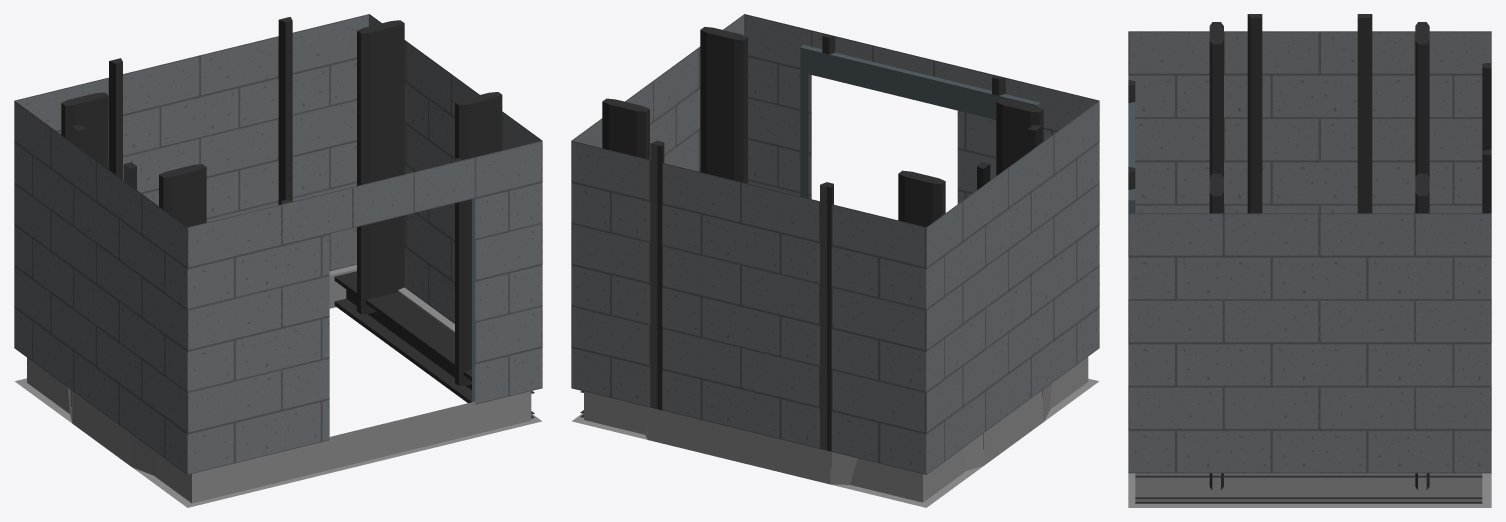
The model's file is SW_ENV_Elevator_Shaft_DoorLevel_FF.fbx.
The picture shows the model from 3 angles, left to right: view 1: azimuth 30°, elevation 25°; view 2: azimuth 150°, elevation 25°; view 3: azimuth 270°, elevation 25°; orthographic projection. The views are drawn at different scales.
Parts seen in each view (by area): view 1: SW_ENV_Elevator_Shaft_DoorLevel_FF; view 2: SW_ENV_Elevator_Shaft_DoorLevel_FF; view 3: SW_ENV_Elevator_Shaft_DoorLevel_FF.
Boxes of the visible parts, left/top/right/bottom form: SW_ENV_Elevator_Shaft_DoorLevel_FF: left=14, top=14, right=542, bottom=507; SW_ENV_Elevator_Shaft_DoorLevel_FF: left=571, top=14, right=1099, bottom=507; SW_ENV_Elevator_Shaft_DoorLevel_FF: left=1128, top=14, right=1491, bottom=507.
Size of the model in its own units: 450 by 360 by 380.
